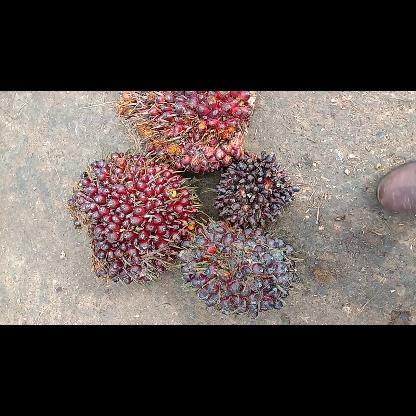Kurang masak: (64, 150, 202, 286), (177, 218, 299, 318)
TBS abnormal: (210, 148, 302, 228)
TBS masak: (116, 91, 254, 175)
